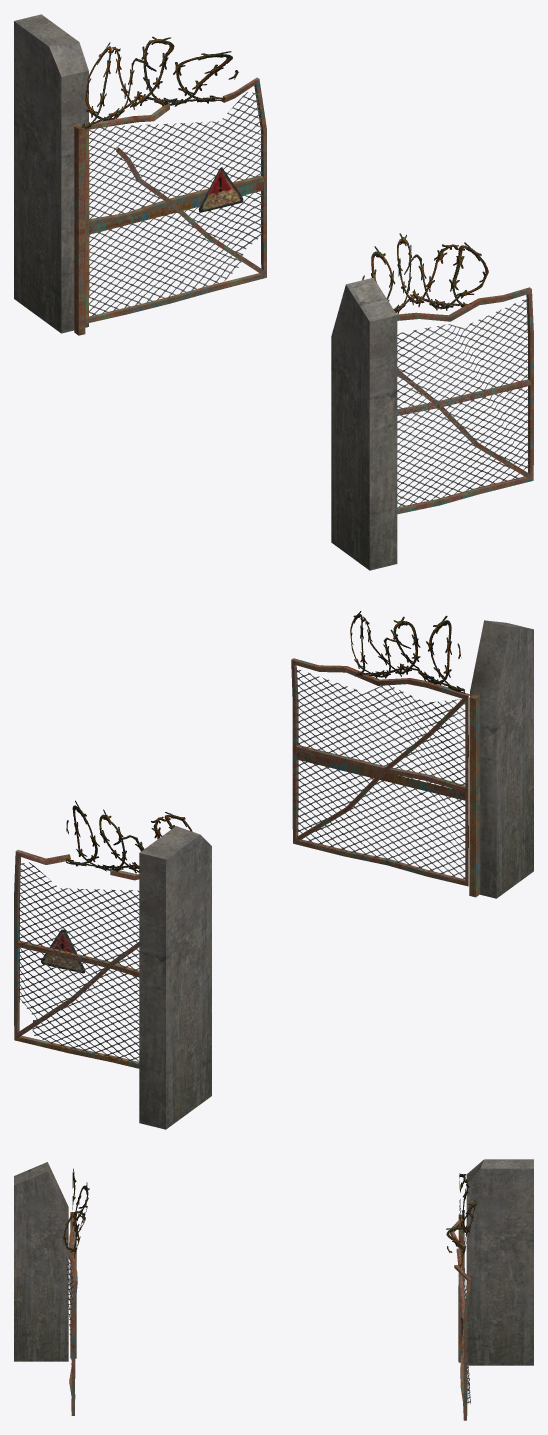
The model's file is Prop_Jz010_lod1.glb.
The picture shows the model from 3 angles, top to bottom: view 1: azimuth 30°, elevation 25°; view 2: azimuth 150°, elevation 25°; view 3: azimuth 270°, elevation 25°; orthographic projection. The views are drawn at different scales.
Visible parts, largest first — view 1: xiutz_jz010_lod1_0; view 2: xiutz_jz010_lod1_0; view 3: xiutz_jz010_lod1_0.
Boxes of the visible parts, <box> form: xiutz_jz010_lod1_0: <box>14,14,533,570</box>; xiutz_jz010_lod1_0: <box>14,611,533,1129</box>; xiutz_jz010_lod1_0: <box>14,1159,533,1420</box>.
Size of the model in its own units: 5.84 by 7.62 by 17.28.
Materials: 2 (2 with a texture image).
